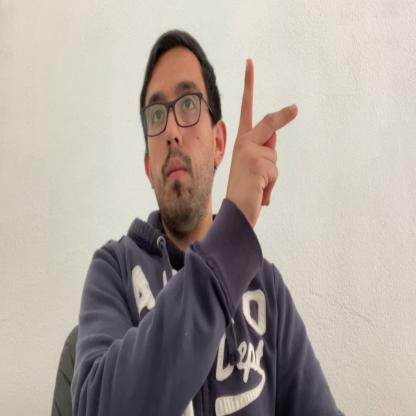P: (229, 56, 299, 219)
